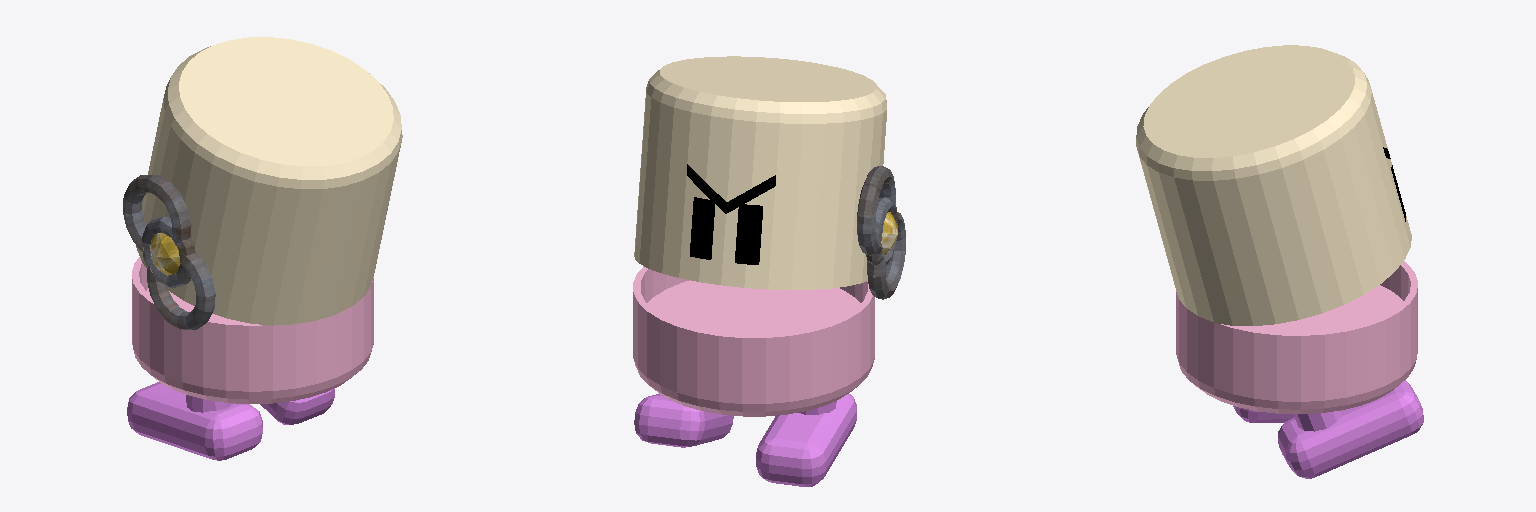
3 renders of one model, left to right at view 1: azimuth 30°, elevation 25°; view 2: azimuth 150°, elevation 25°; view 3: azimuth 270°, elevation 25°, orthographic.
Visible parts, largest first — view 1: Head, Jaw, WindupKey, LeftLeg, RightLeg; view 2: Head, Jaw, LeftLeg, WindupKey, RightLeg; view 3: Head, Jaw, RightLeg, LeftLeg.
Boxes of the visible parts, x1=… form: Head: x1=136, y1=37, x2=402, y2=325; Jaw: x1=132, y1=257, x2=373, y2=403; WindupKey: x1=123, y1=175, x2=215, y2=329; LeftLeg: x1=127, y1=382, x2=262, y2=460; RightLeg: x1=260, y1=388, x2=334, y2=424; Head: x1=634, y1=56, x2=886, y2=289; Jaw: x1=633, y1=266, x2=874, y2=416; LeftLeg: x1=756, y1=394, x2=856, y2=486; WindupKey: x1=857, y1=166, x2=905, y2=299; RightLeg: x1=634, y1=393, x2=733, y2=447; Head: x1=1136, y1=45, x2=1411, y2=325; Jaw: x1=1176, y1=261, x2=1417, y2=413; RightLeg: x1=1278, y1=380, x2=1423, y2=478; LeftLeg: x1=1233, y1=406, x2=1293, y2=422.
Bounding box in the file's own units: 113 × 169 × 118.
6 materials, 2 textured.